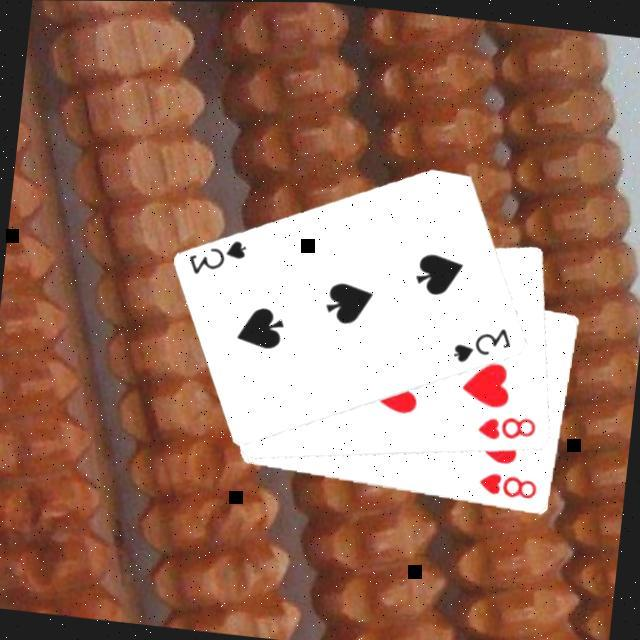3S: (451, 321, 517, 371), (186, 233, 252, 283)
8H: (474, 409, 542, 448), (476, 468, 542, 504)
